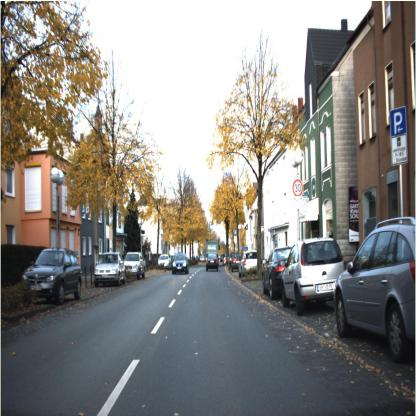prohibitory: (292, 174, 304, 198)
